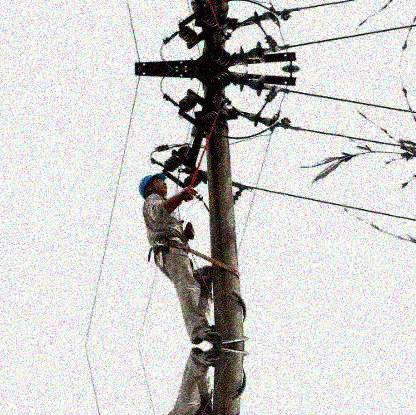helmet: (138, 174, 167, 198)
